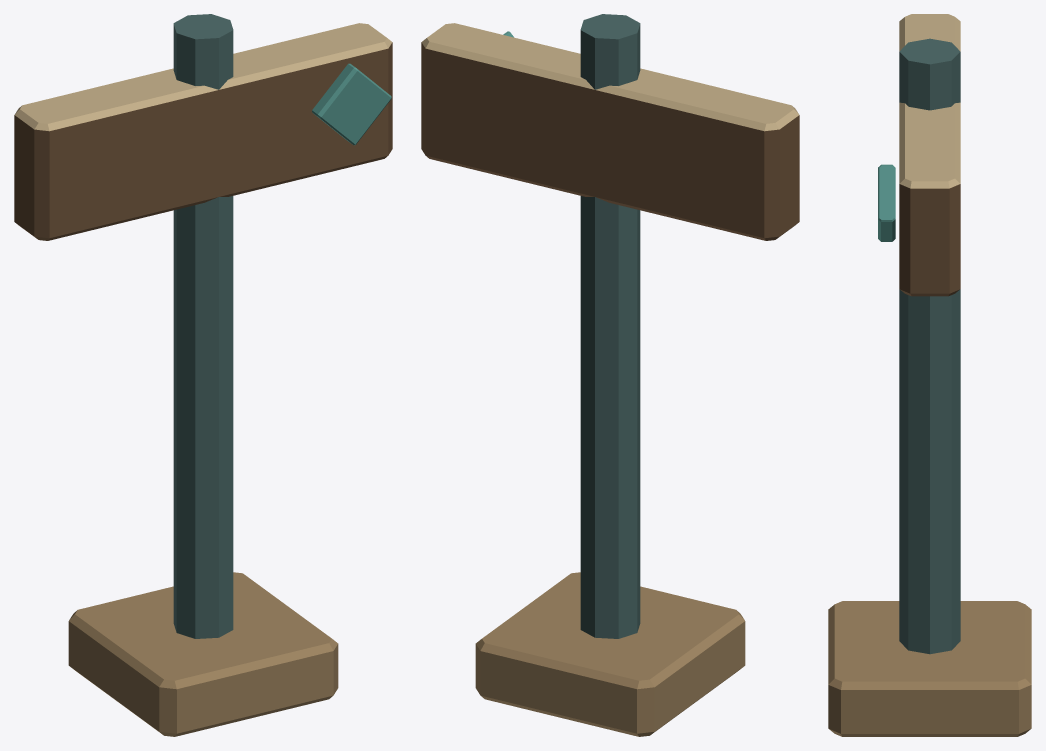
Rendered from waymarker.glb.
3 renders of one model, left to right at view 1: azimuth 30°, elevation 25°; view 2: azimuth 150°, elevation 25°; view 3: azimuth 270°, elevation 25°, orthographic.
Parts seen in each view (by area): view 1: waymarker__body; view 2: waymarker__body; view 3: waymarker__body.
Part boxes in pixels (x1,y1,x2,y2): waymarker__body: (14, 14, 392, 736); waymarker__body: (421, 14, 799, 736); waymarker__body: (828, 14, 1031, 736).
Bounding box in the file's own units: 0.8 × 1.4 × 0.4.
